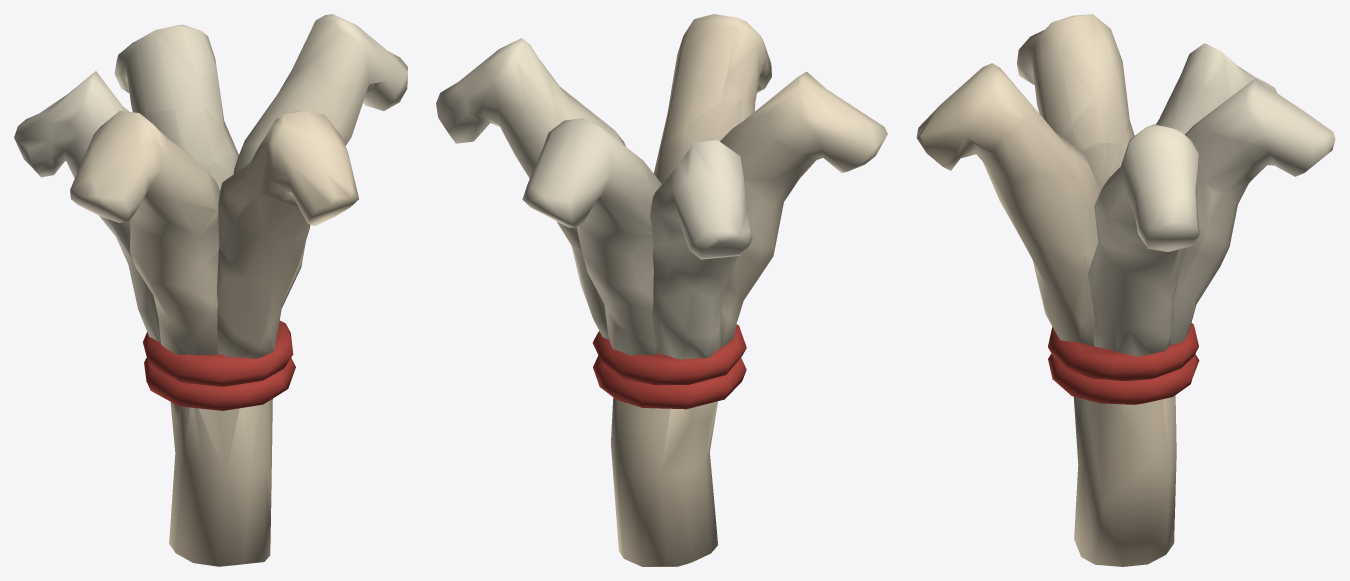
The model's file is den_fringe_tassel_lod1.glb.
3 renders of one model, left to right at view 1: azimuth 30°, elevation 25°; view 2: azimuth 150°, elevation 25°; view 3: azimuth 270°, elevation 25°, orthographic.
Parts seen in each view (by area): view 1: den_fringe_tassel.001; view 2: den_fringe_tassel.001; view 3: den_fringe_tassel.001.
Part boxes in pixels (x1=…): den_fringe_tassel.001: x1=14, y1=14, x2=407, y2=566; den_fringe_tassel.001: x1=436, y1=14, x2=887, y2=566; den_fringe_tassel.001: x1=916, y1=14, x2=1335, y2=566.
Size of the model in its own units: 4.92 by 5.99 by 4.68.
